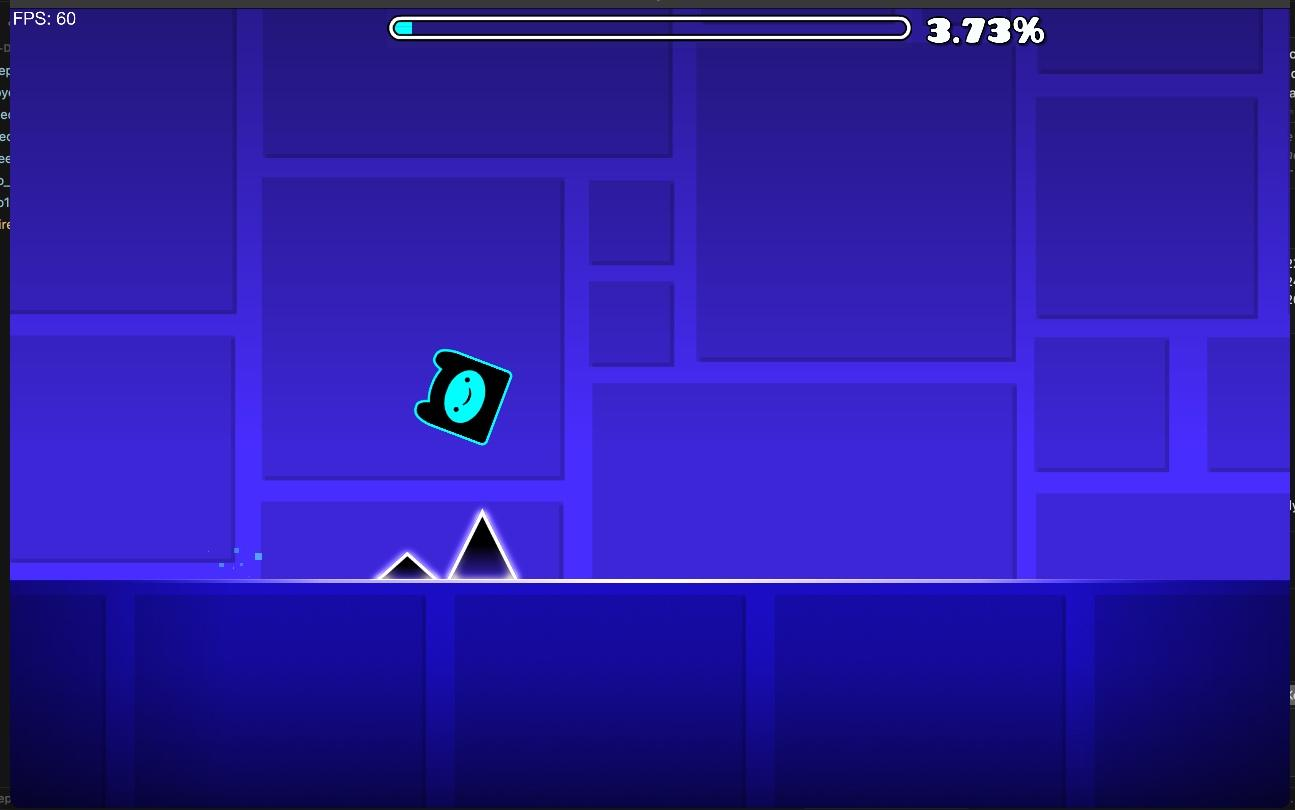block: (11, 581, 1287, 809)
player: (415, 349, 511, 445)
spike: (448, 511, 516, 578), (380, 554, 436, 578)
